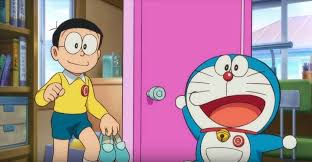doraemon: (175, 53, 298, 162)
